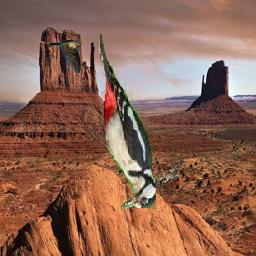Cuckoo: (47, 41, 81, 74)
Woodpecker: (100, 29, 157, 209)
